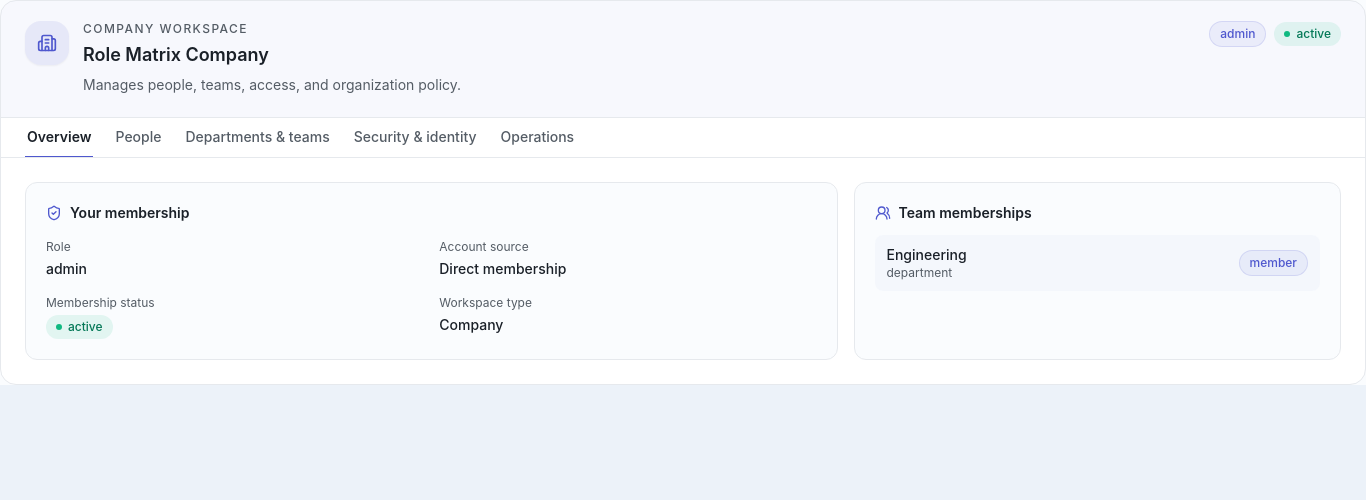
Test case: organization role surface › shows row-local member save feedback
Click the tab "People": (138, 138) [114,118,164,158]
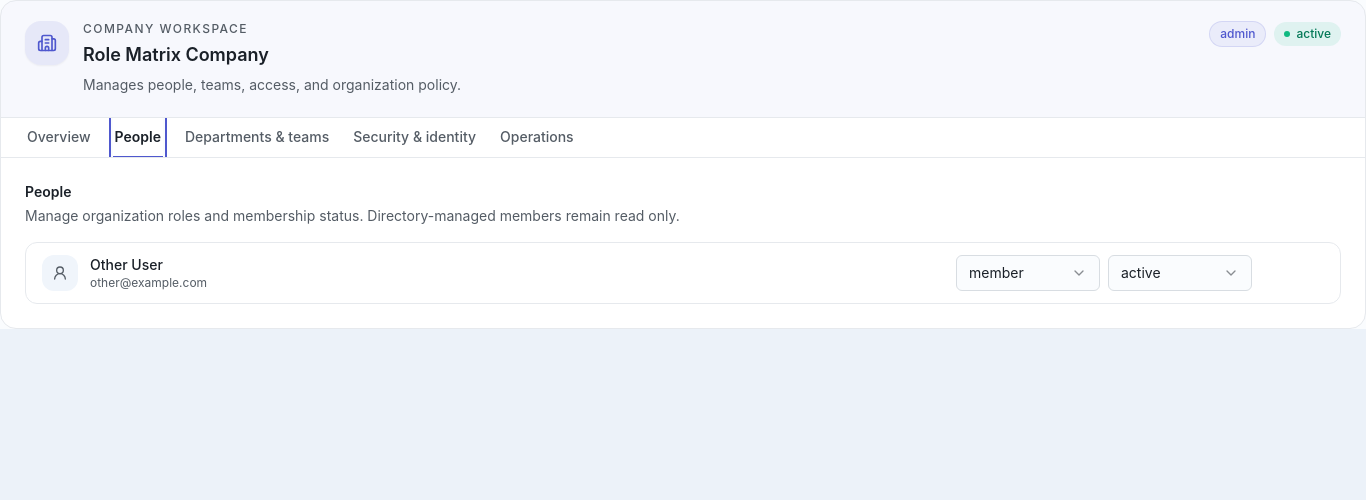
Click the dropdown labelled "member": (1028, 273) [956,255,1100,291]
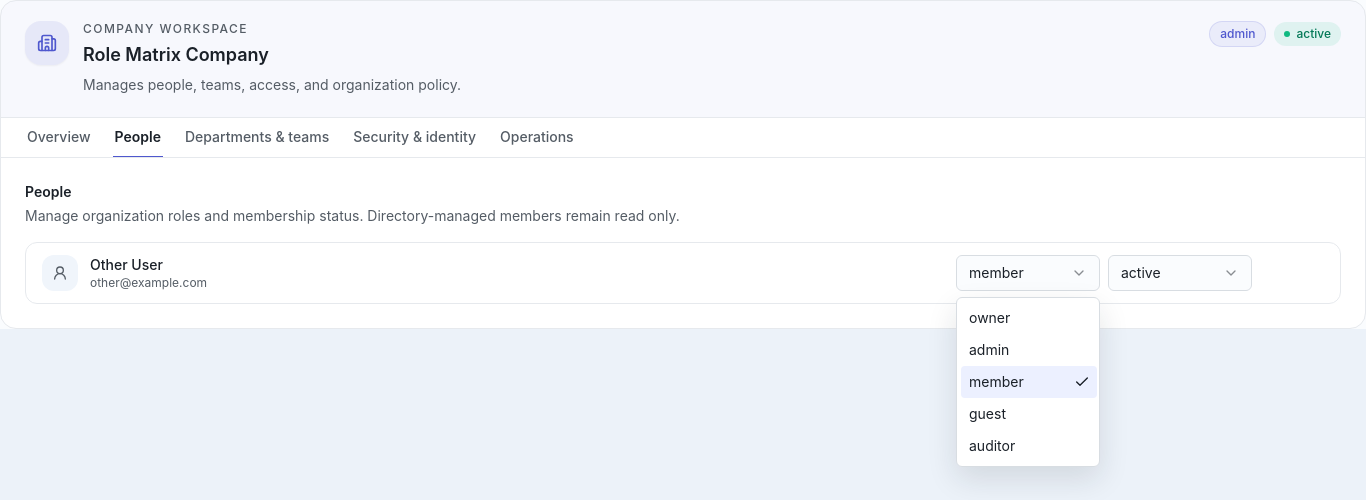
Click the option "admin": (989, 350) [969,341,1009,358]
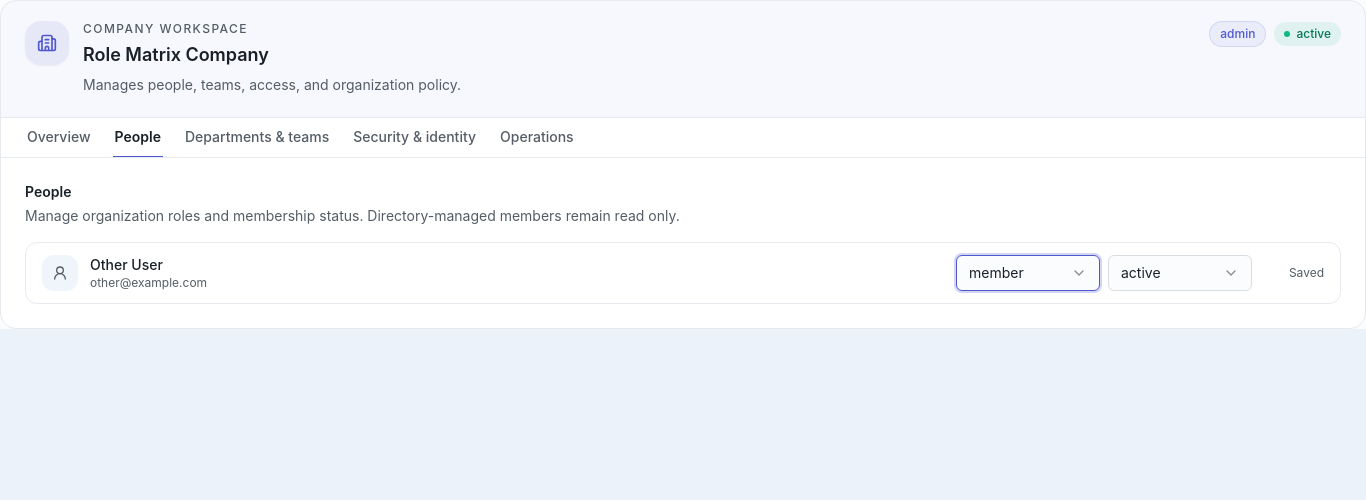
Check: the text "Saved" is shown, box [1289,265,1324,280]
